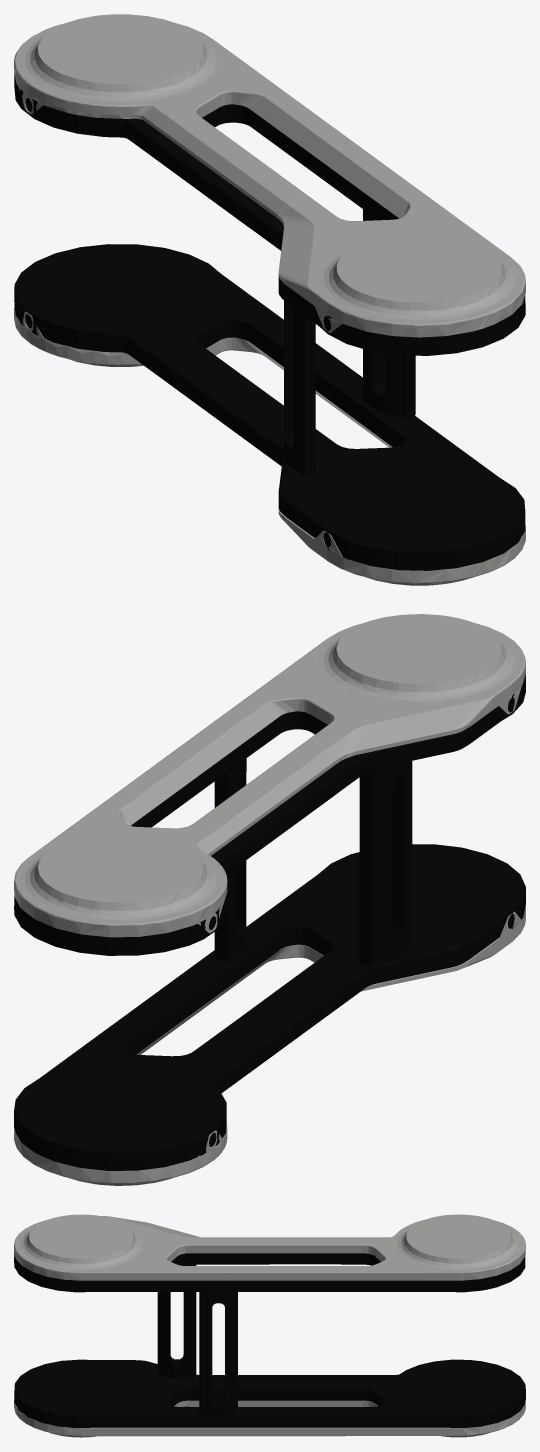
The model's file is torso_link2.obj.
3 views of the same model, one above another, from view 1: azimuth 30°, elevation 25°; view 2: azimuth 150°, elevation 25°; view 3: azimuth 270°, elevation 25° (orthographic). The views are drawn at different scales.
Parts seen in each view (by area): view 1: torso_link2; view 2: torso_link2; view 3: torso_link2.
Boxes of the visible parts, left/top/right/bottom form: torso_link2: left=14, top=14, right=525, bottom=585; torso_link2: left=14, top=614, right=525, bottom=1185; torso_link2: left=14, top=1214, right=525, bottom=1437.
Bounding box in the file's own units: 0.1251 × 0.183 × 0.475.
